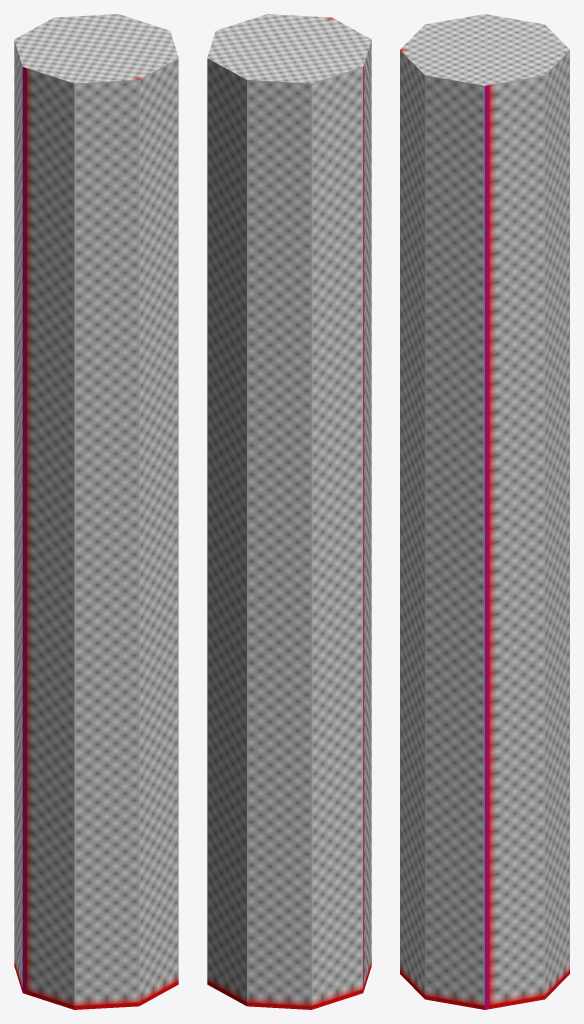
File: Cylinder_Half.fbx
3 renders of one model, left to right at view 1: azimuth 30°, elevation 25°; view 2: azimuth 150°, elevation 25°; view 3: azimuth 270°, elevation 25°, orthographic.
Visible parts, largest first — view 1: Cylinder_Half; view 2: Cylinder_Half; view 3: Cylinder_Half.
Part boxes in pixels (x1,y1,x2,y2): Cylinder_Half: [14, 14, 178, 1009]; Cylinder_Half: [207, 14, 371, 1009]; Cylinder_Half: [400, 14, 569, 1009].
Bounding box in the file's own units: 50 × 300 × 50.
